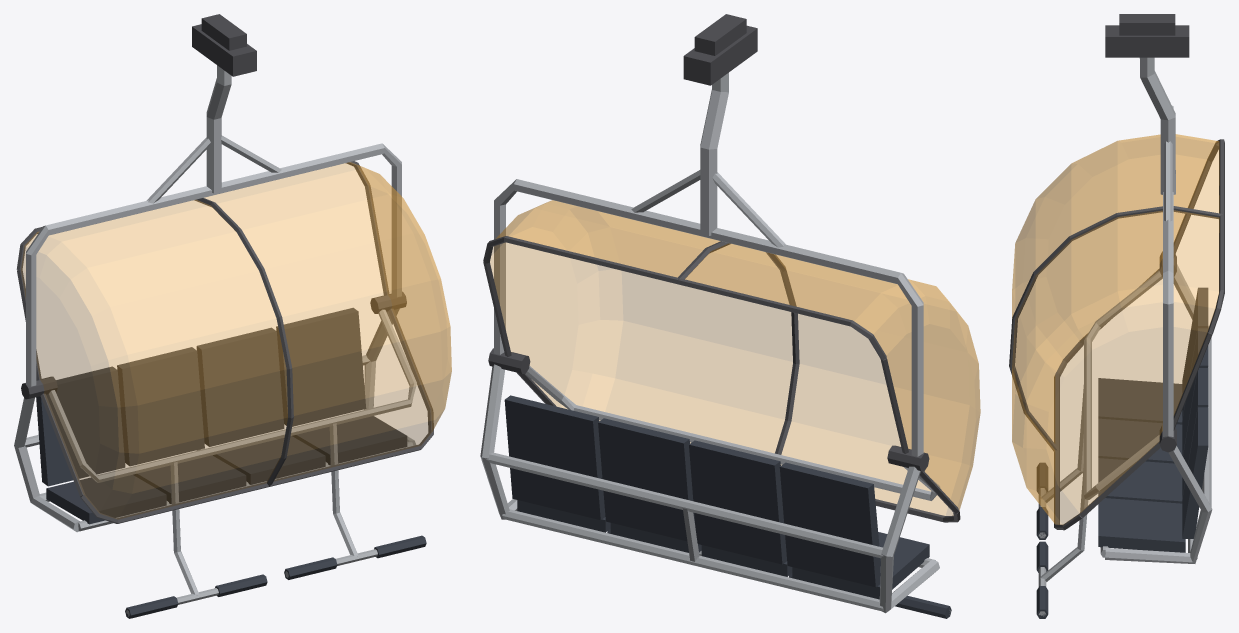
File: chairlift-4.glb
3 renders of one model, left to right at view 1: azimuth 30°, elevation 25°; view 2: azimuth 150°, elevation 25°; view 3: azimuth 270°, elevation 25°, orthographic. The views are drawn at different scales.
Parts seen in each view (by area): view 1: Hood, Chair, SafetyBar; view 2: Hood, Chair, SafetyBar; view 3: Hood, Chair, SafetyBar.
Boxes of the visible parts, left/top/right/bottom form: Hood: left=16, top=161, right=451, bottom=523; Chair: left=14, top=14, right=415, bottom=532; SafetyBar: left=49, top=309, right=426, bottom=618; Hood: left=483, top=200, right=980, bottom=522; Chair: left=480, top=14, right=939, bottom=613; SafetyBar: left=525, top=366, right=951, bottom=618; Hood: left=1009, top=134, right=1224, bottom=530; Chair: left=1098, top=14, right=1212, bottom=563; SafetyBar: left=1036, top=271, right=1162, bottom=618.
Size of the model in its own units: 2.54 by 3.33 by 1.24.
